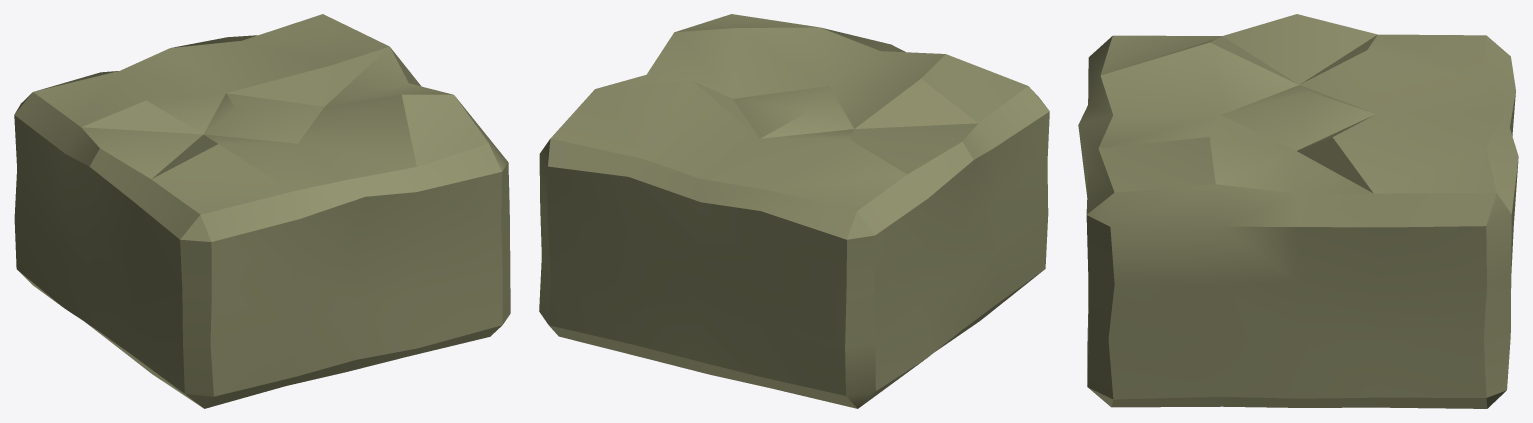
Rendered from Hedge_1x1.fbx.
3 views of the same model, side by side, from view 1: azimuth 30°, elevation 25°; view 2: azimuth 150°, elevation 25°; view 3: azimuth 270°, elevation 25° (orthographic). The views are drawn at different scales.
Parts seen in each view (by area): view 1: Hedge_1x1; view 2: Hedge_1x1; view 3: Hedge_1x1.
Boxes of the visible parts, <box> form: Hedge_1x1: <box>14,14,510,408</box>; Hedge_1x1: <box>539,14,1049,408</box>; Hedge_1x1: <box>1078,14,1518,408</box>.
Size of the model in its own units: 0.9338 by 0.9288 by 0.5819.
